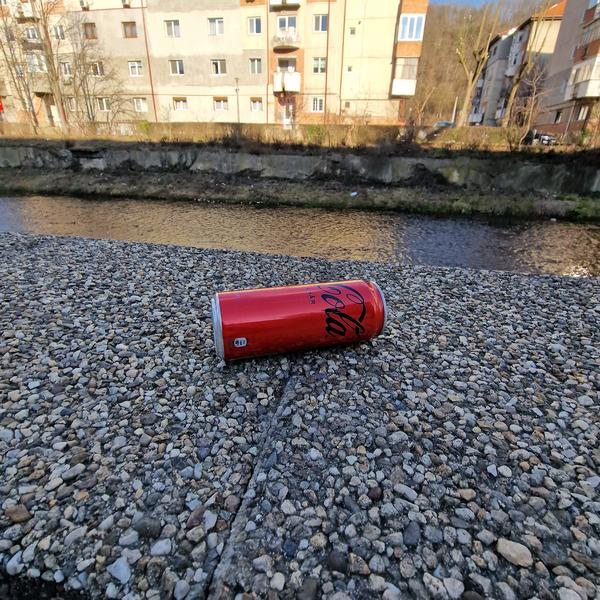can: (209, 274, 391, 362)
